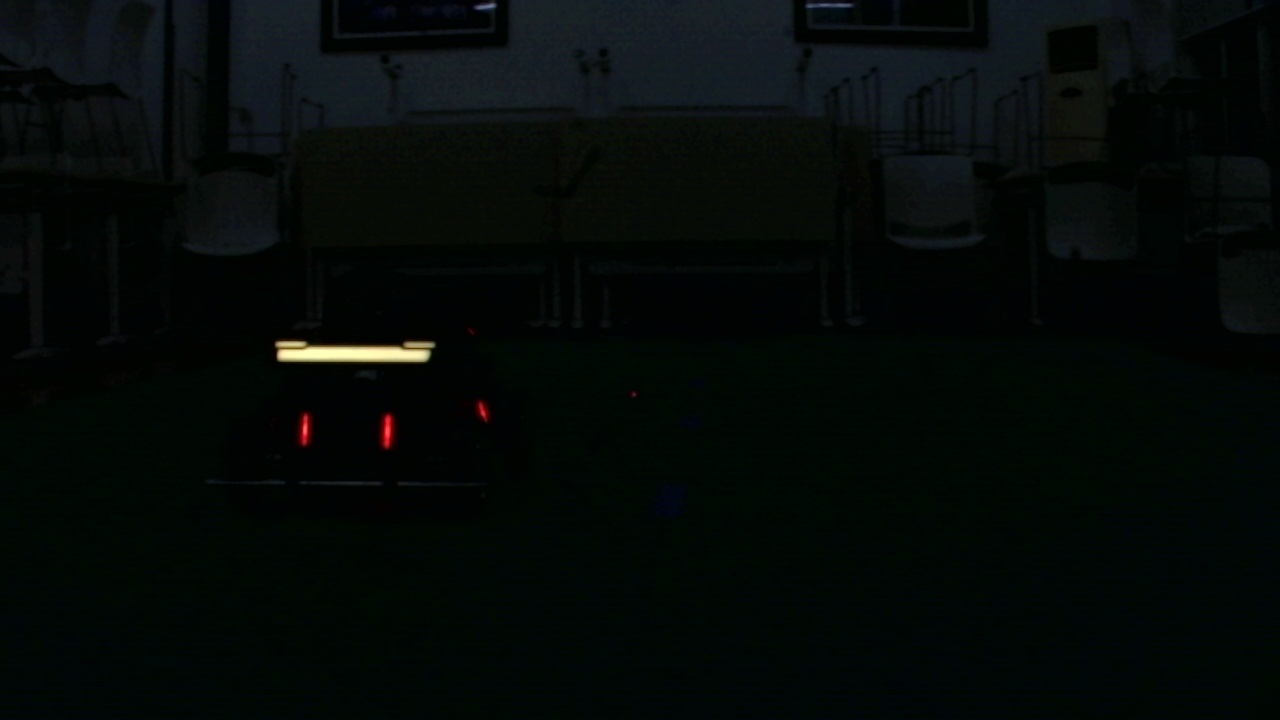lamp: (297, 408, 314, 449), (380, 407, 395, 453)
pair1: (301, 409, 397, 449)
